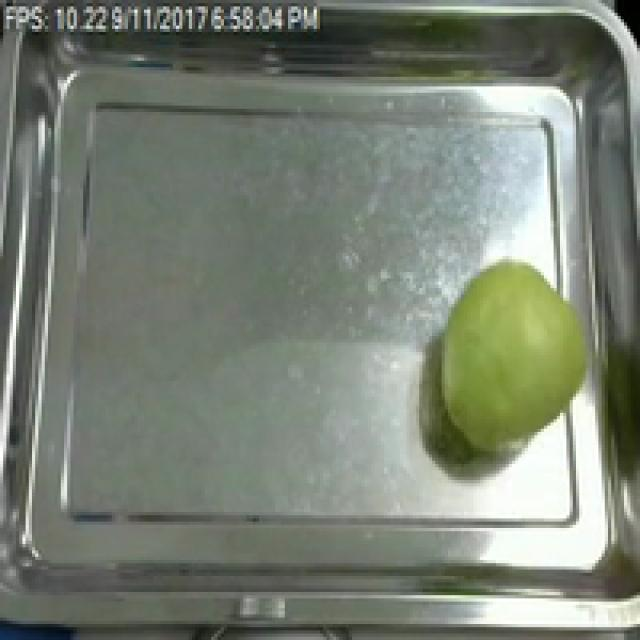Fruit: (426, 256, 611, 458)
